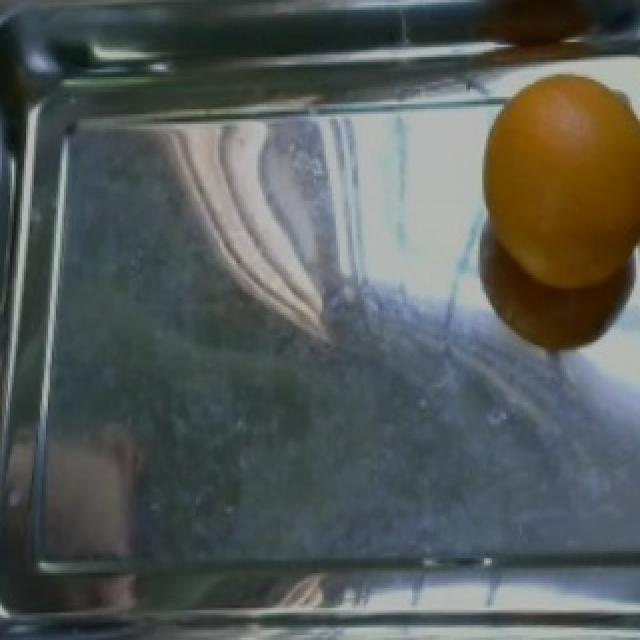Fruit: (472, 60, 636, 308)
